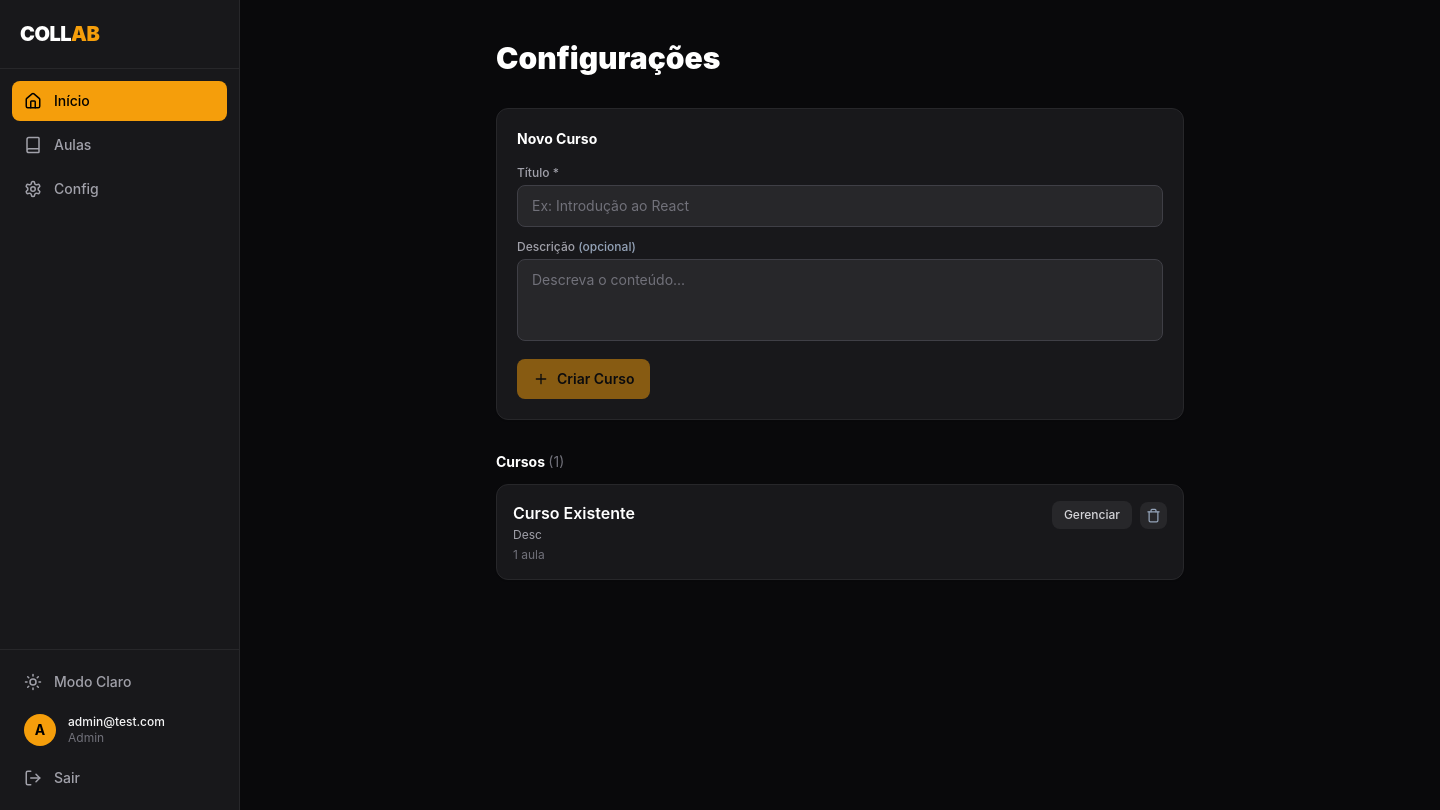
Test: ConfigPage › opens course manager on Gerenciar click
expect the text "Curso Existente" is shown: met, box [513,501,635,525]
Click the button "Gerenciar" at x=1092, y=515, box [1052,501,1132,529]
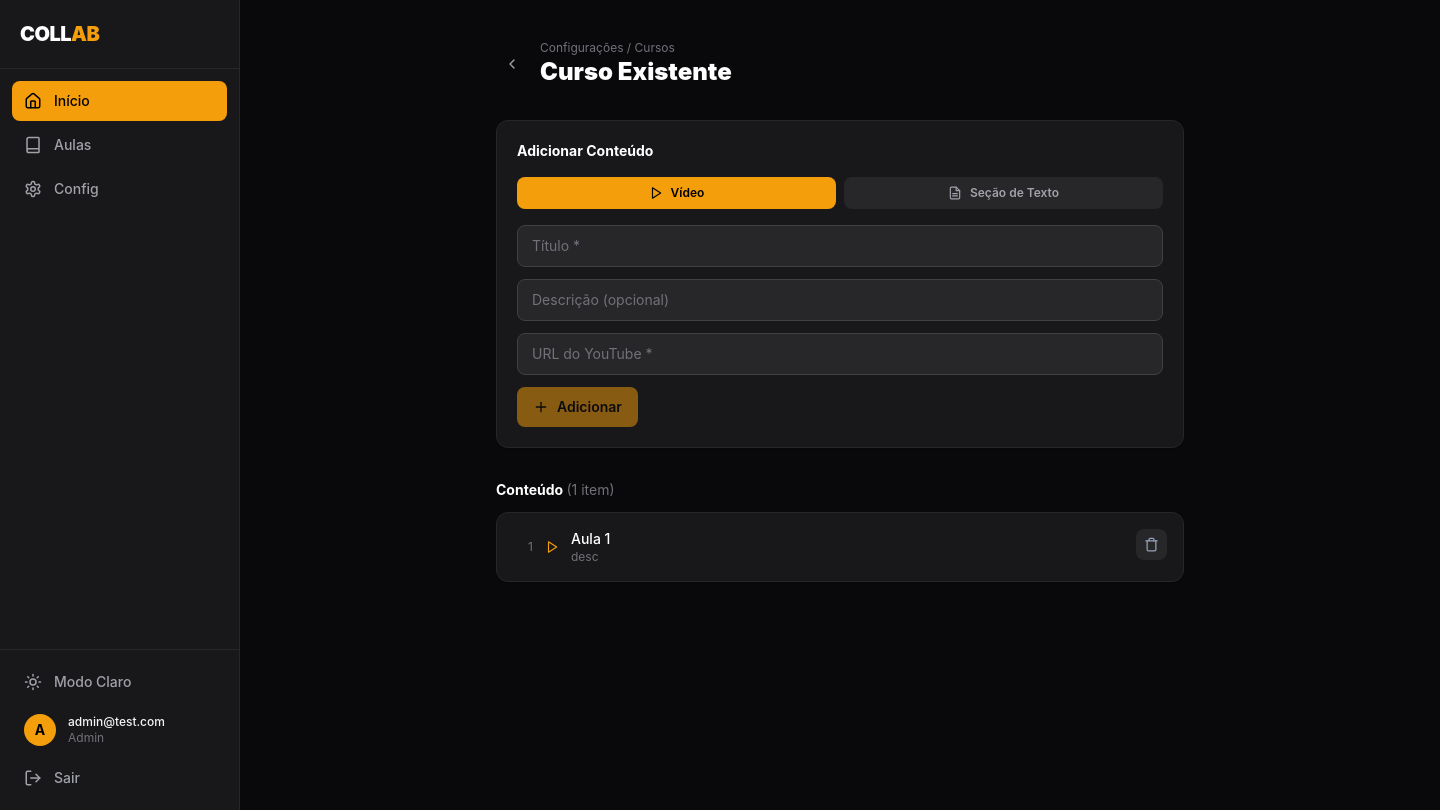
expect the heading "Adicionar Conteúdo" is shown: met, box [517,142,653,159]
